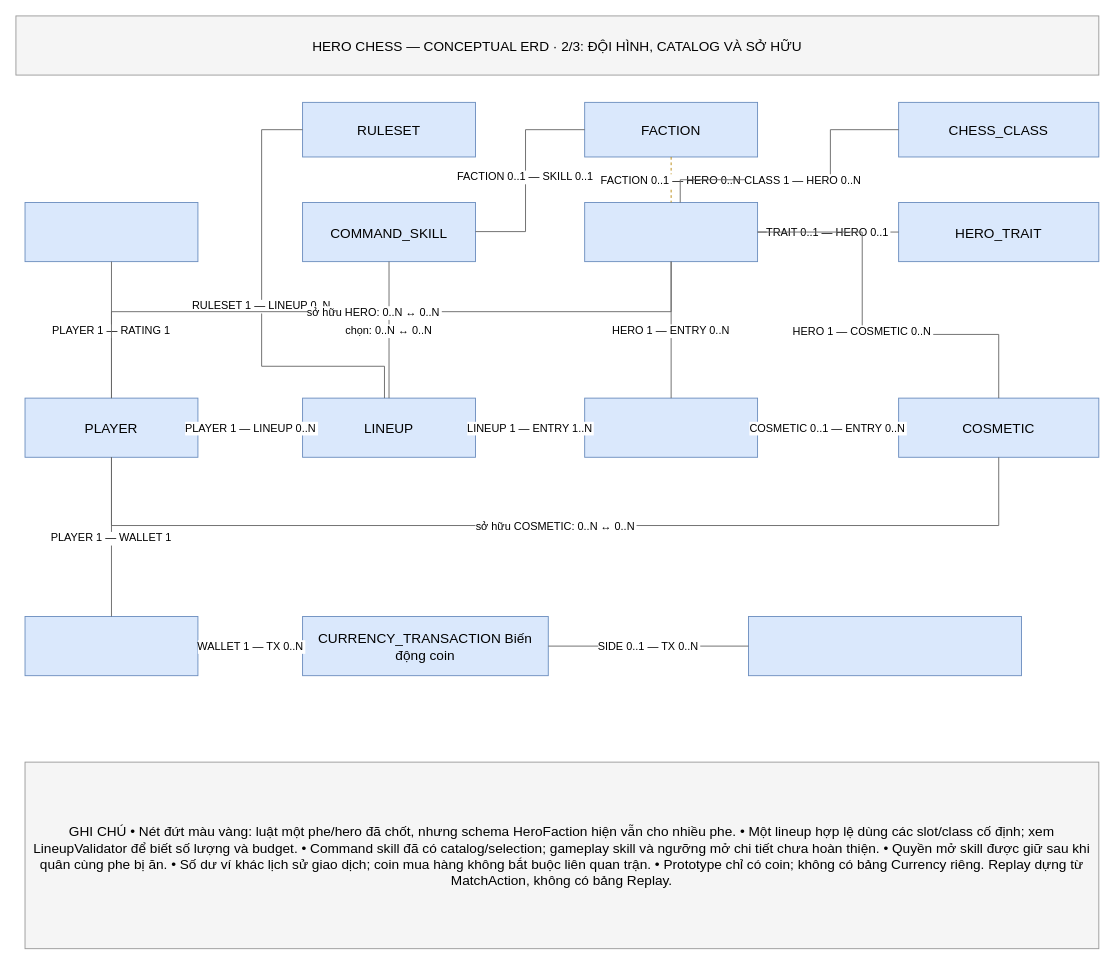
This 1115x965 diagram has some shape labels left out. The shapes that lost their labels are listed below. From the top down, each one's centre as x and y in pixels, then its label:
At [111,232]: "RATING Elo người chơi".
At [671,232]: "HERO".
At [671,427]: "LINEUP_ENTRY".
At [111,646]: "WALLET Ví coin".
At [884,646]: "MATCH_PARTICIPATION Nguồn thưởng tùy chọn".
